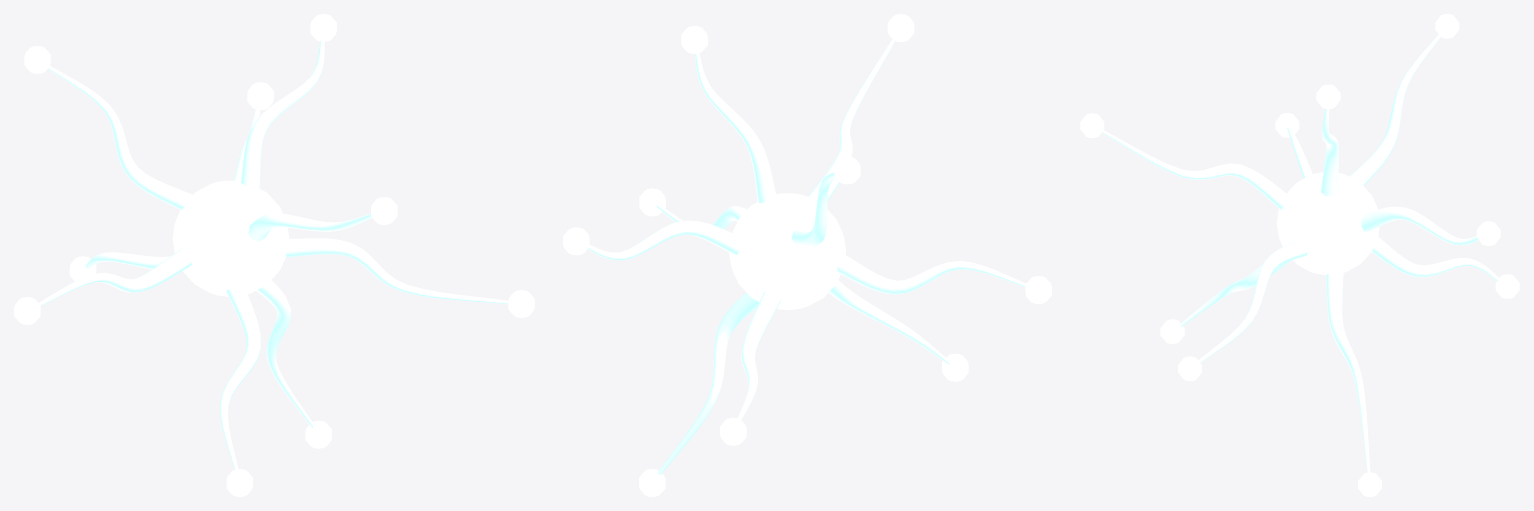
Rendered from S08_Star_Neuron.glb.
3 views of the same model, side by side, from view 1: azimuth 30°, elevation 25°; view 2: azimuth 150°, elevation 25°; view 3: azimuth 270°, elevation 25° (orthographic). The views are drawn at different scales.
Visible parts, largest first — view 1: S08_Star_Neuron_Mesh; view 2: S08_Star_Neuron_Mesh; view 3: S08_Star_Neuron_Mesh.
Part boxes in pixels (x1=…): S08_Star_Neuron_Mesh: x1=14, y1=14, x2=534, y2=496; S08_Star_Neuron_Mesh: x1=563, y1=14, x2=1051, y2=496; S08_Star_Neuron_Mesh: x1=1080, y1=14, x2=1519, y2=496.
Bounding box in the file's own units: 8.22 × 7.73 × 7.64.
